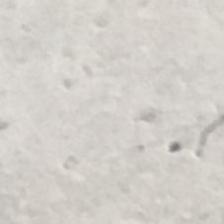Crack: (185, 115, 200, 118)
Non_Crack: (7, 8, 188, 116)
